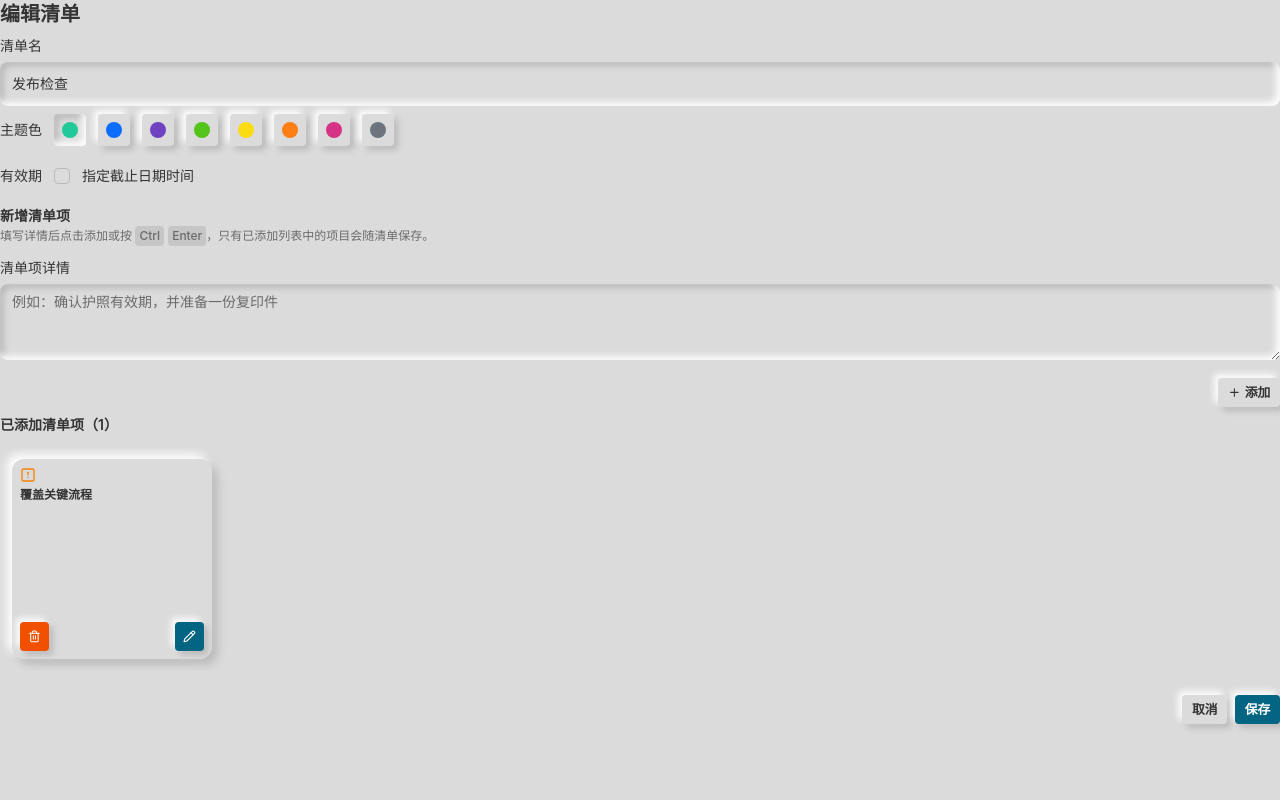
Test: ChecklistForm › allows deleting the last draft card in edit mode and checks the item count on save
Click the button named "删除清单项": (34, 636) [20,622,49,651]
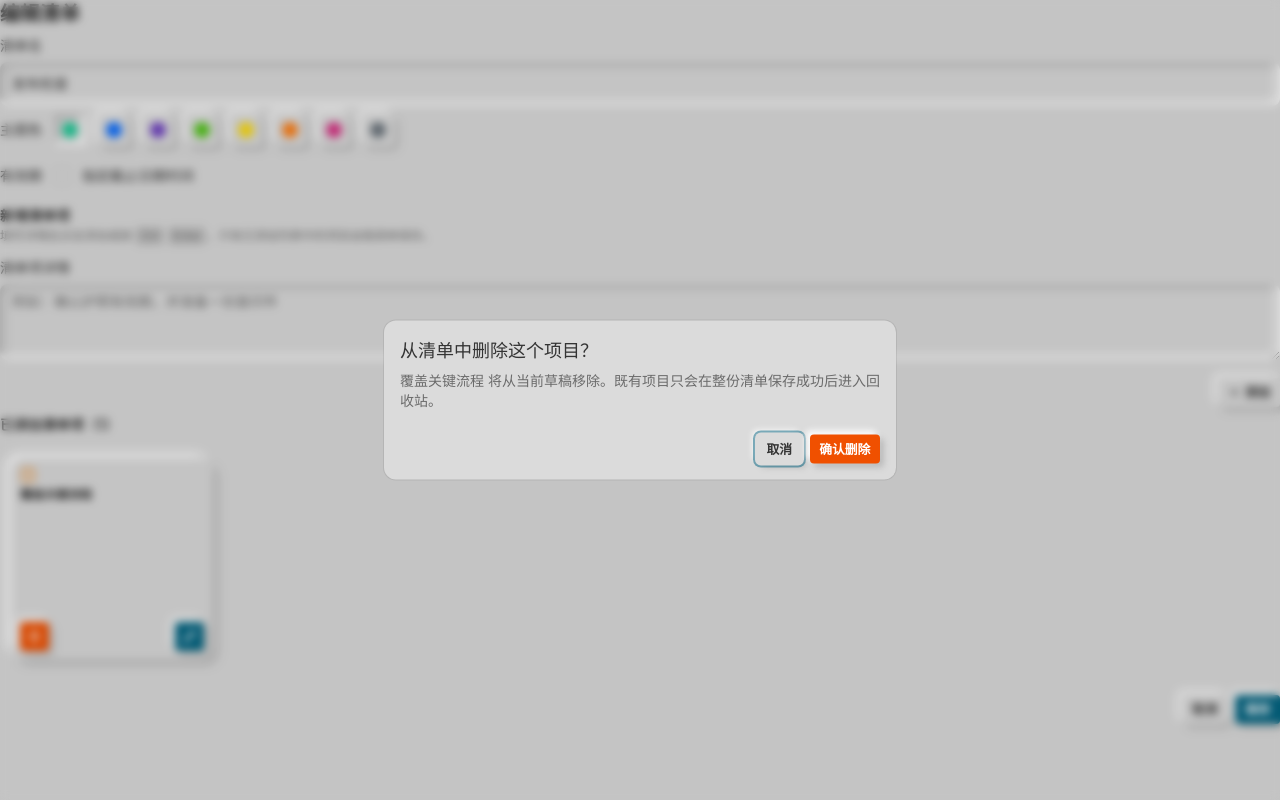
Expected: the button "确认删除" is enabled
Click the button "确认删除": (845, 449) [810,434,880,464]
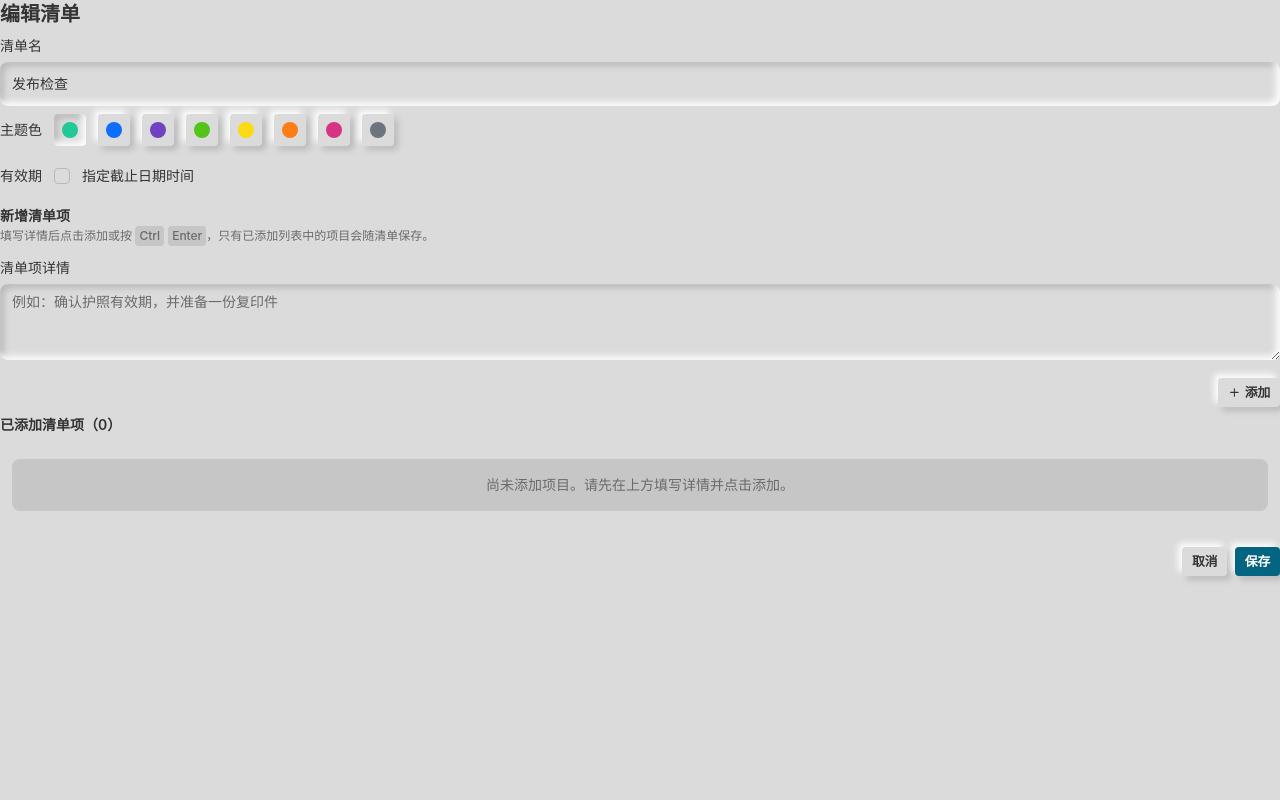
Expected: the text "清单至少需要一个已添加项目" is not shown
Expected: the heading "已添加清单项（0）" is shown, [0,416,121,433]
Click the button "保存": (1258, 562) [1235,547,1279,576]
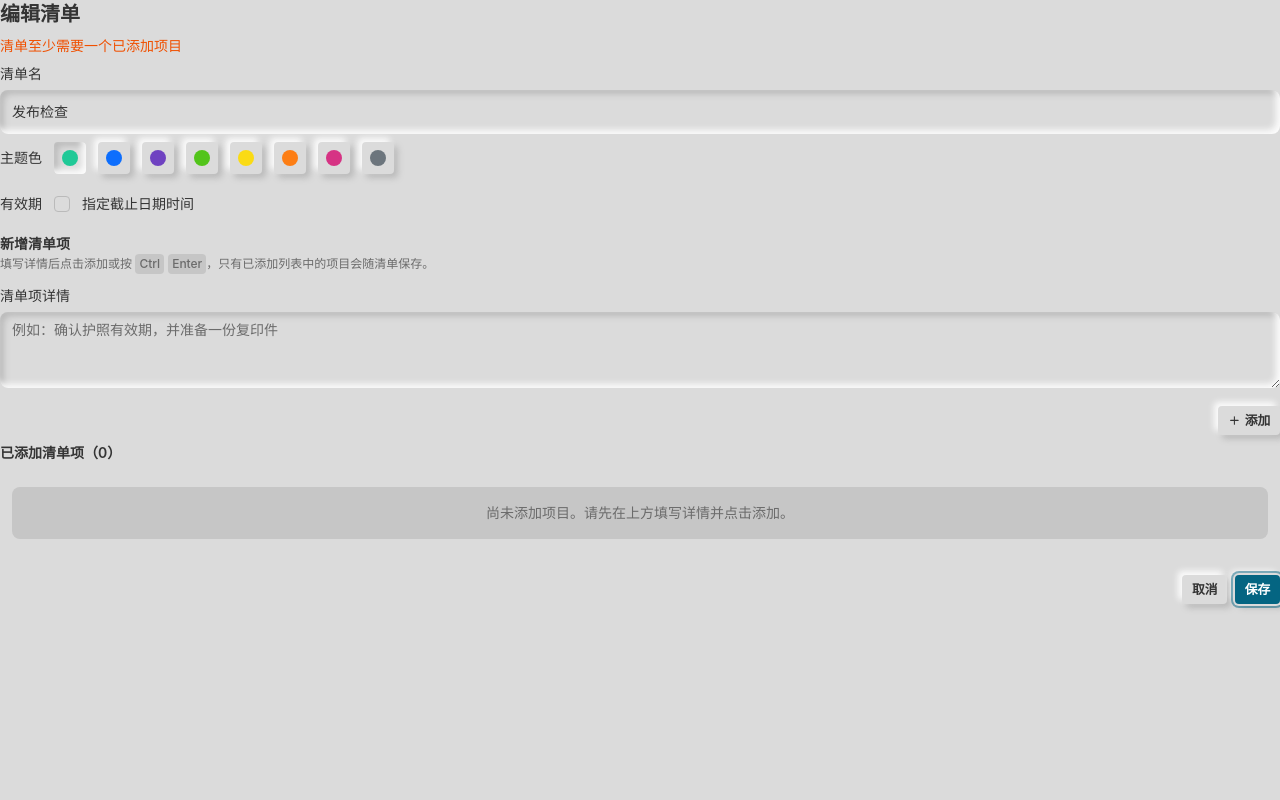
Expected: the message reads "清单至少需要一个已添加项目", [0,37,182,54]
